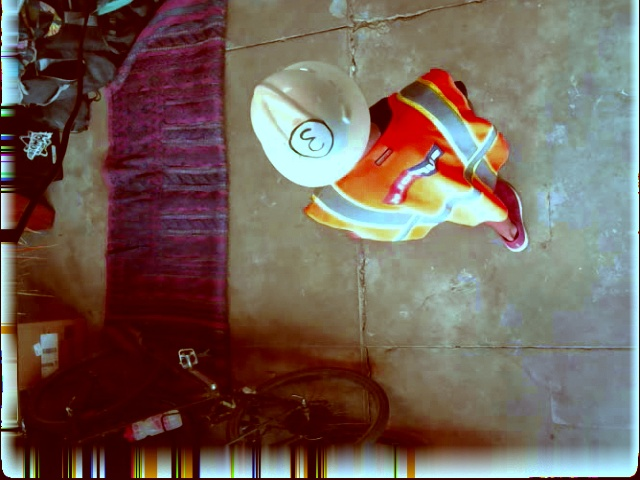three: (288, 119, 333, 158)
